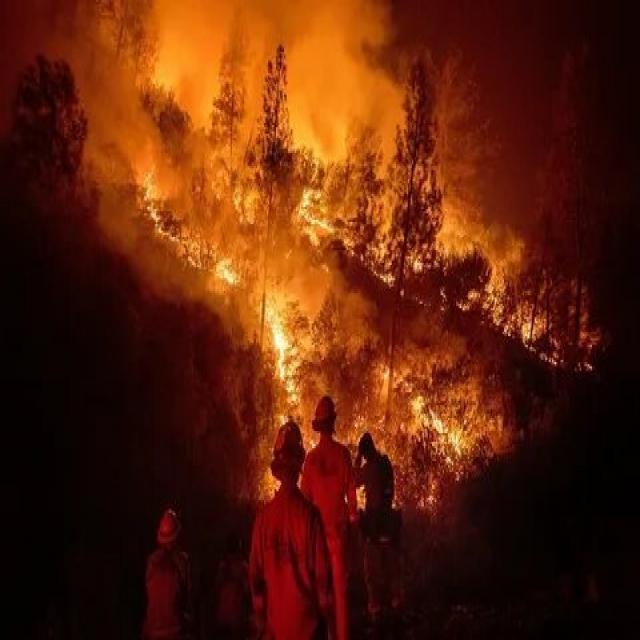Fire: (132, 26, 526, 515)
